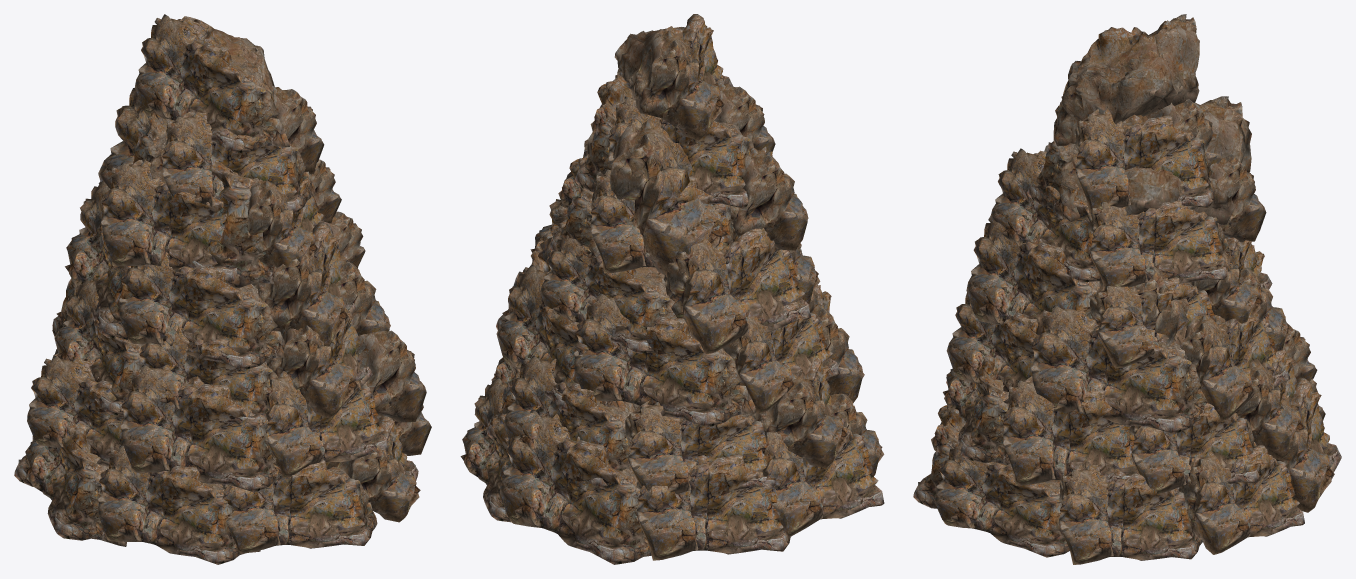
The model's file is cliff-tall.glb.
The picture shows the model from 3 angles, left to right: view 1: azimuth 30°, elevation 25°; view 2: azimuth 150°, elevation 25°; view 3: azimuth 270°, elevation 25°; orthographic projection. The views are drawn at different scales.
Visible parts, largest first — view 1: cliff-tall_Stone; view 2: cliff-tall_Stone; view 3: cliff-tall_Stone.
Boxes of the visible parts, x1,y1,x2,y2 form: cliff-tall_Stone: (14,14,431,564); cliff-tall_Stone: (460,14,884,564); cliff-tall_Stone: (913,14,1341,564).
Bounding box in the file's own units: 23.69 × 28 × 23.67.
Materials: 1 (1 with a texture image).
